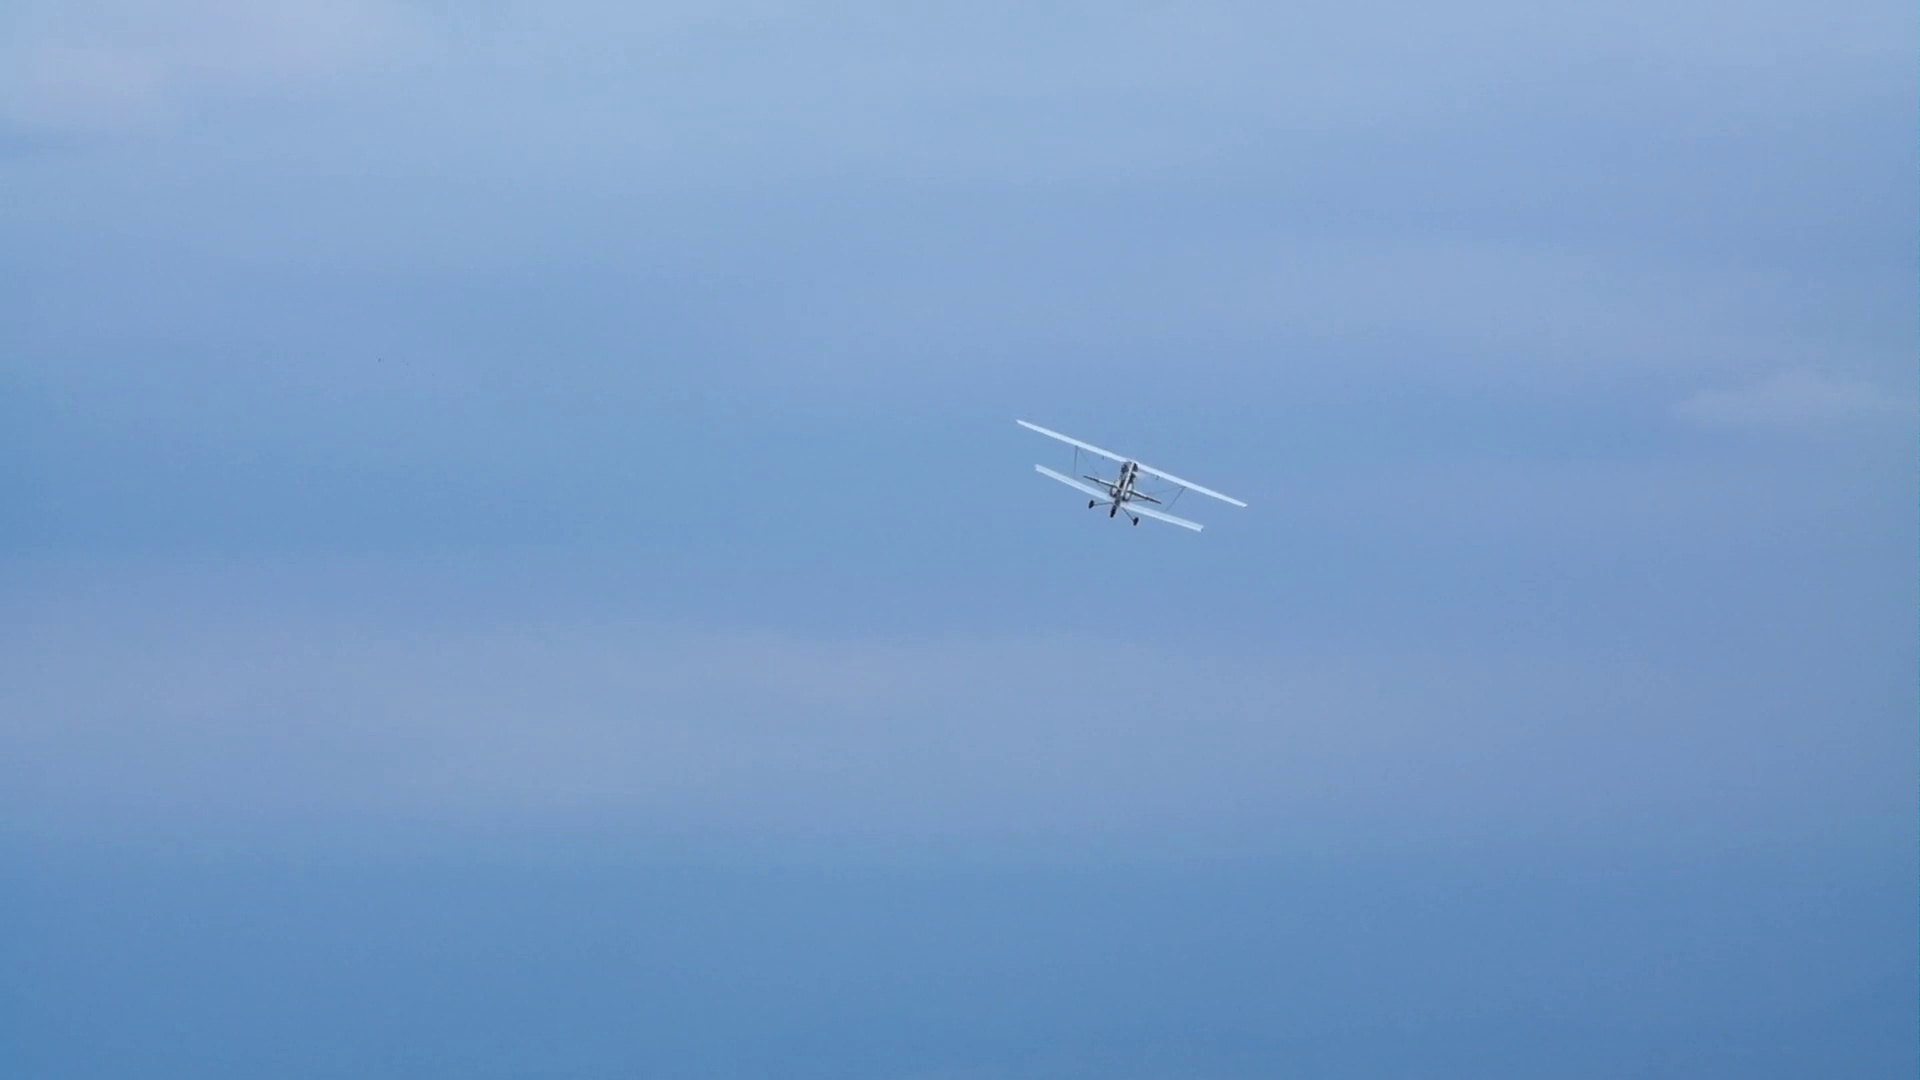plane: (1015, 413, 1247, 534)
